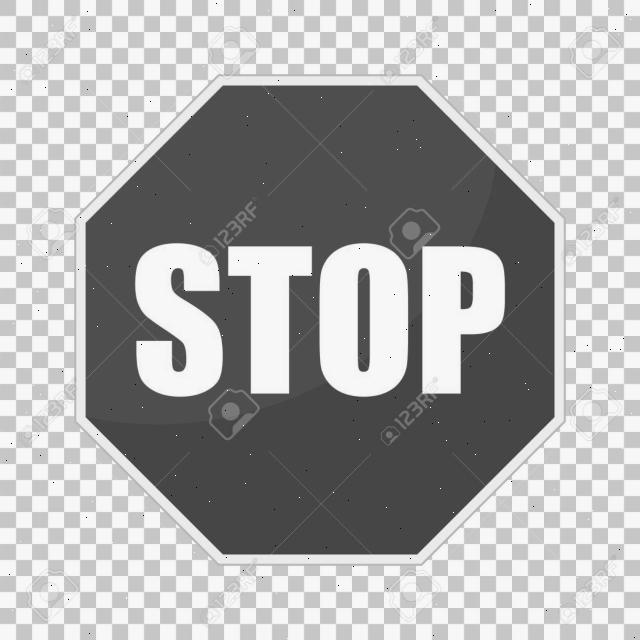Stop-sign: (56, 62, 570, 579)
